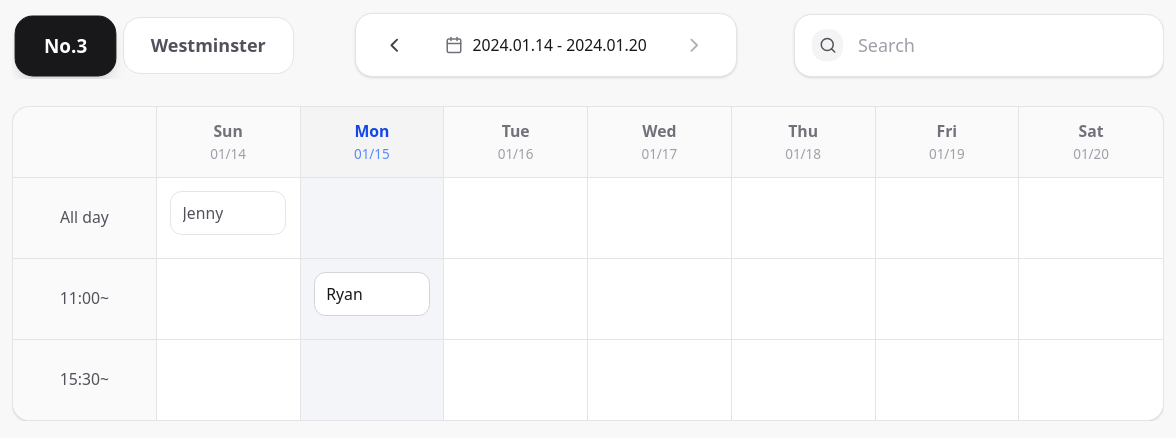
ScheduleViewer › 직원 선택 (필터링 모드) › 직원 선택 시 그리드에서 해당 직원만 표시된다
This screenshot has width=1176, height=438.
What coordinates should you click on to do the following:
click the dropdown
I would click on:
 (979, 45)
Its box is [794,14,1164,77].
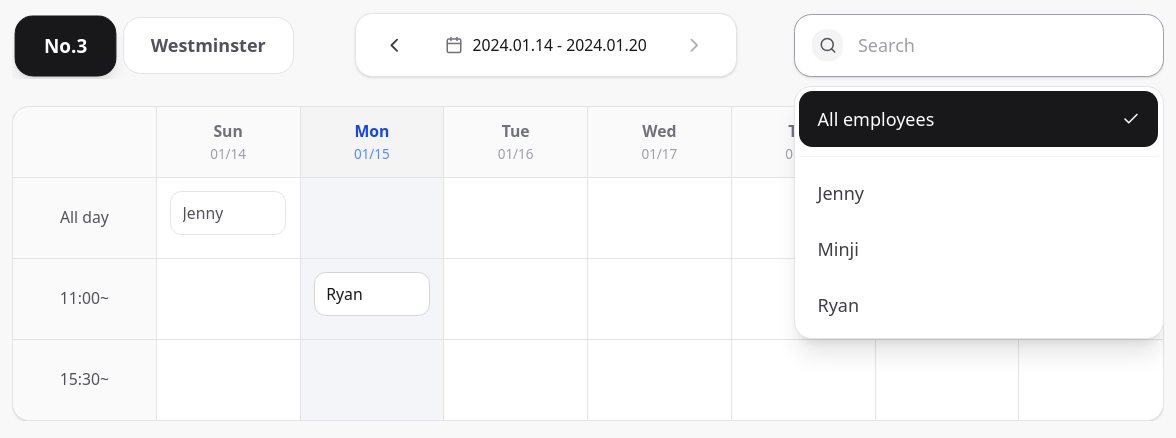
What coordinates should you click on to do the following:
click the option "Ryan"
I would click on:
 (838, 305)
Its box is [800,277,1158,333].
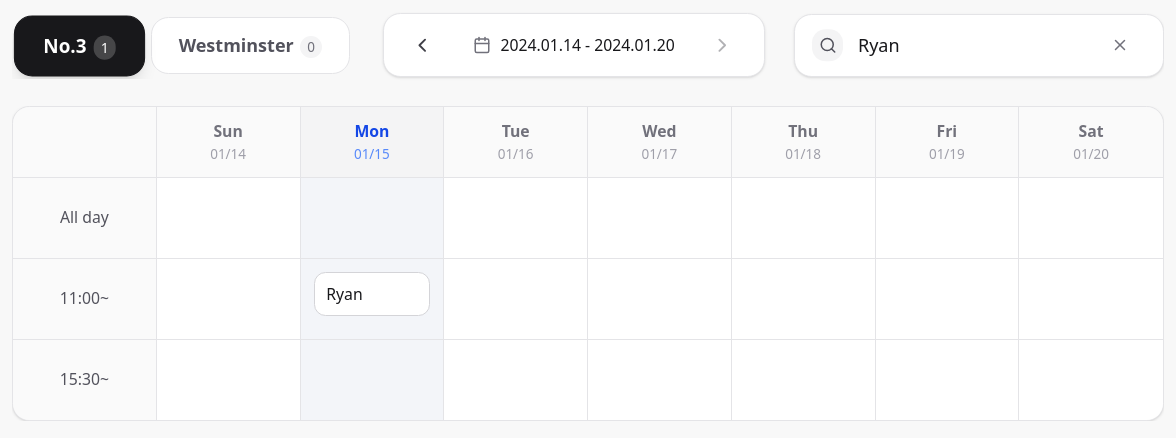
Expected: the button "Ryan" is shown, [314,272,430,316]
Expected: the option "Minji" is gone
